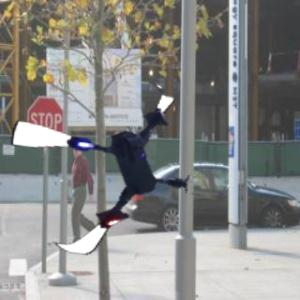drone: (6, 74, 203, 271)
